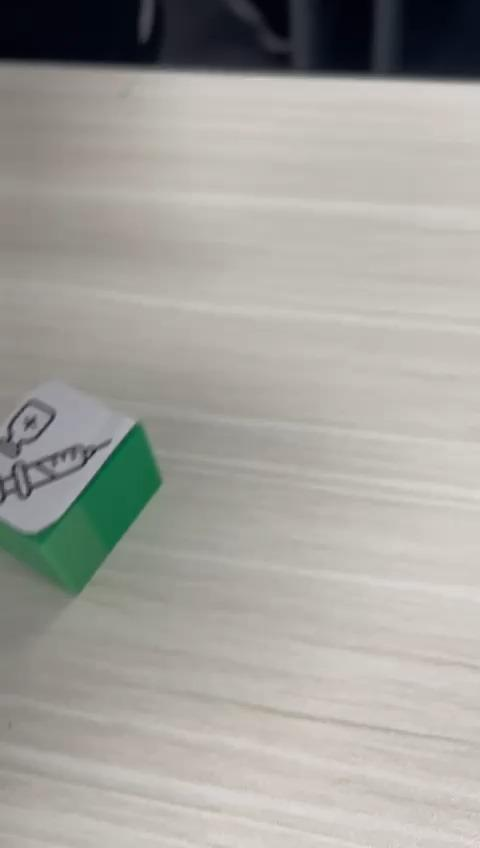antiseptic cream: (0, 376, 163, 597)
